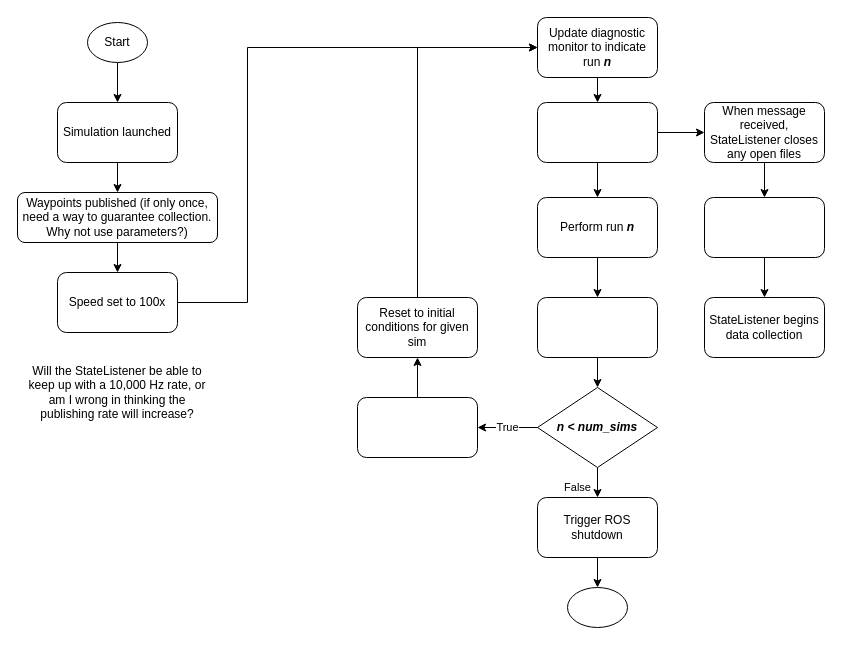
Some shapes in this 842 by 645 pixel diagram are drawn without their labels. Here are the shapes that lost their labels. From the top down, the centre of each, then its label:
At point (597, 132): "Publish to StateListener current run number n".
At point (764, 227): "StateListener creates new folders with run number n in name".
At point (597, 327): "Report completion to StateListener".
At point (417, 427): "Increment n".
At point (597, 607): "End".
